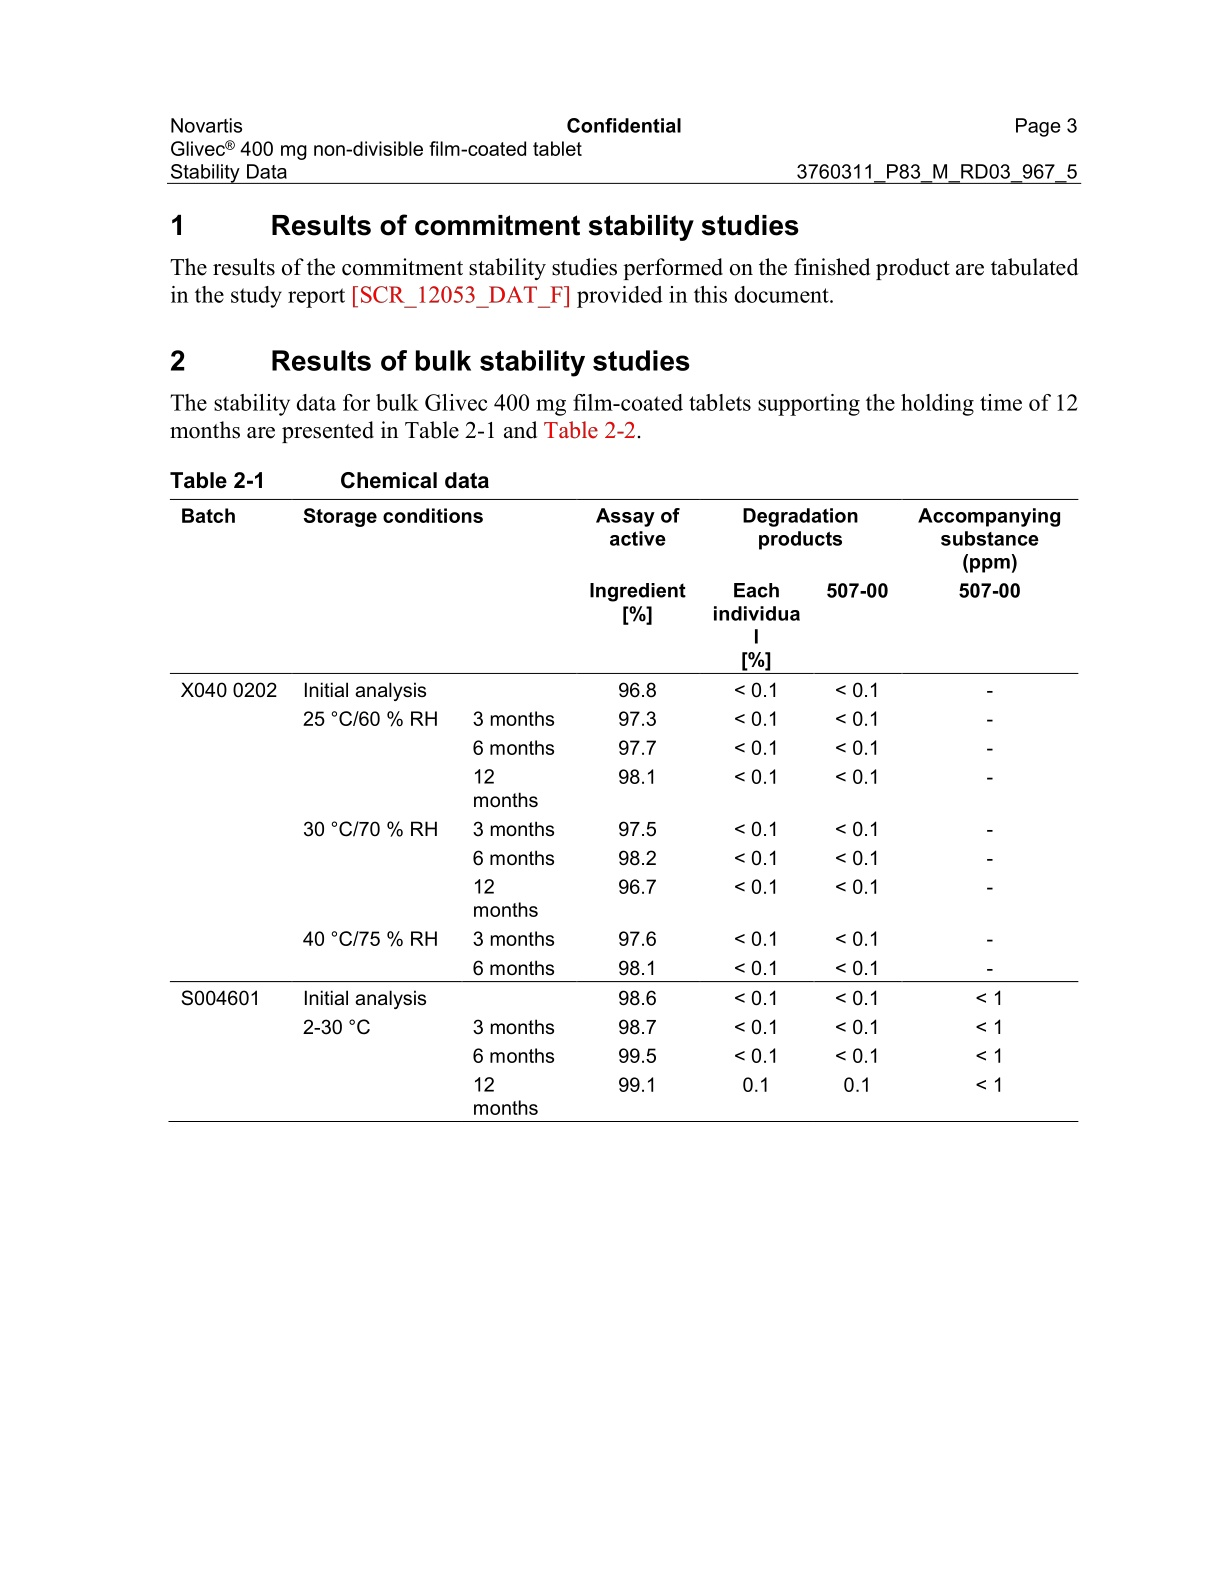partial_lined_merged_cells: (168, 498, 1083, 1122)
